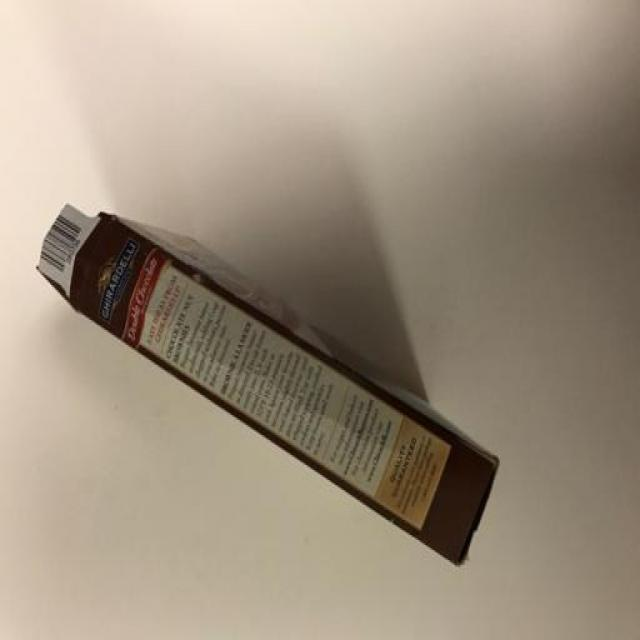paper: (21, 181, 523, 576)
